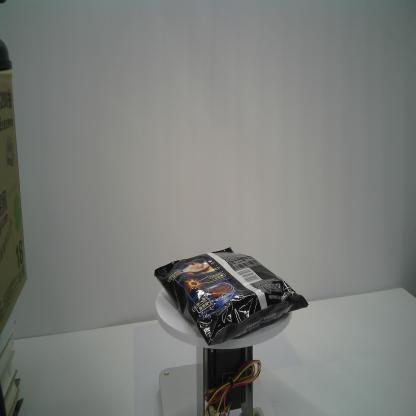Instant Noodles: (151, 244, 309, 348)
